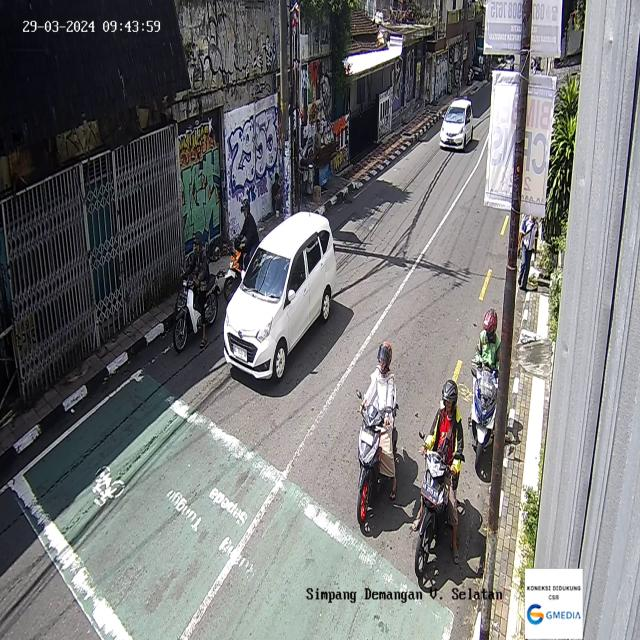car: (223, 210, 337, 382), (439, 98, 473, 151)
motorcycle: (413, 379, 465, 579), (355, 340, 399, 526), (172, 230, 221, 354), (468, 306, 502, 472), (223, 199, 262, 305)
